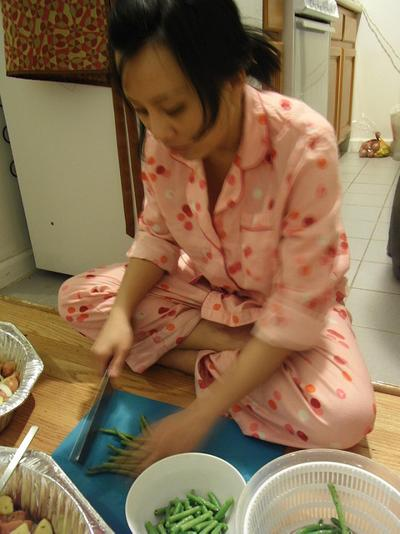person: (56, 4, 378, 450)
